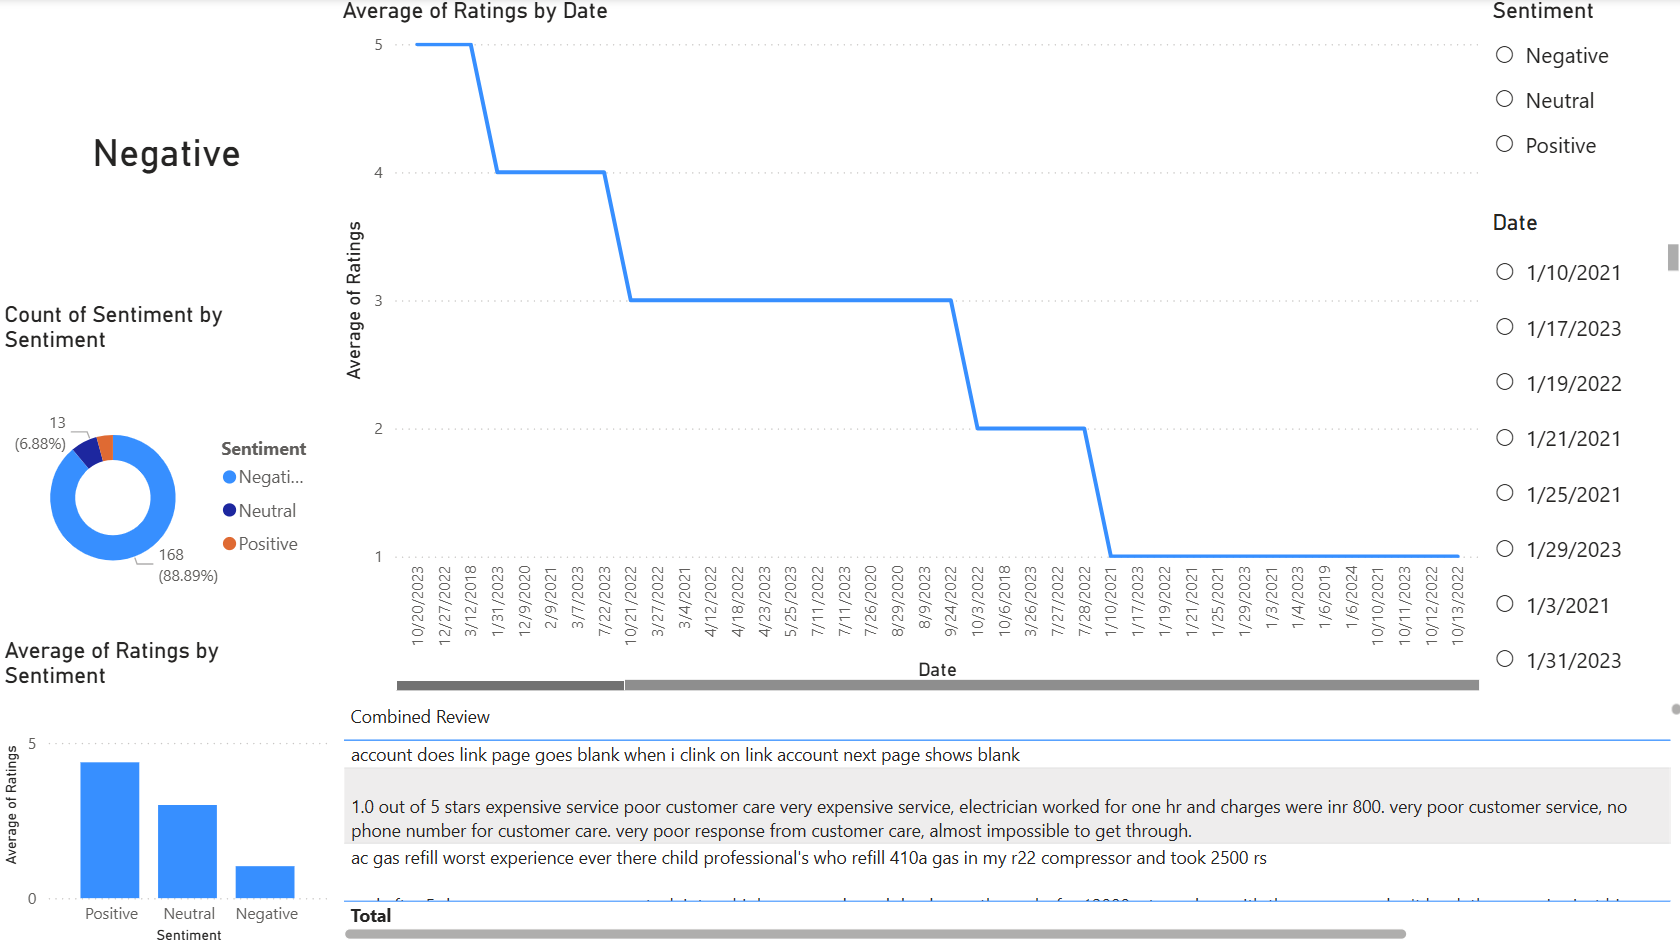

What the dashboard file says about the page in this screenshot:
{"tool":"powerbi","page":{"name":"Page 1","canvas":[1280,720],"ordinal":0},"visuals":[{"type":"card","fields":{"Values":["Min(Urban_company_reviews.Sentiment)"]},"box":[0,0,256.3,231],"z":0},{"type":"donutChart","fields":{"Category":["Urban_company_reviews.Sentiment"],"Y":["CountNonNull(Urban_company_reviews.Sentiment)"]},"box":[0,231,256.3,254.7],"z":1000},{"type":"lineChart","fields":{"Category":["Urban_company_reviews.Date"],"Y":["Avg(Urban_company_reviews.Ratings)"]},"box":[256.3,0,871.8,530],"z":2000},{"type":"tableEx","fields":{"Values":["Urban_company_reviews.Combined Review","Sum(Urban_company_reviews.Ratings)","Urban_company_reviews.Sentiment","Urban_company_reviews.Date"]},"box":[255.8,529.9,1026.2,190.1],"z":3000},{"type":"listSlicer","fields":{"Values":["Urban_company_reviews.Sentiment"]},"box":[1128.1,0,153.5,303.8],"z":4000},{"type":"listSlicer","fields":{"Values":["Urban_company_reviews.Date"]},"box":[1128.1,161.4,151.9,368.7],"z":5000},{"type":"clusteredColumnChart","fields":{"Category":["Urban_company_reviews.Sentiment"],"Y":["Avg(Urban_company_reviews.Ratings)"]},"box":[0,485.1,255.8,236.3],"z":6000}]}

Visuals, with their boxes in screenshot pixels (x1, y1, x2, y2), scaled from the page's 1280x720 canvas onto the 1680x947 screenshot:
card - Min(Urban_company_reviews.Sentiment): l=0, t=0, r=336, b=304
donutChart - Urban_company_reviews.Sentiment x CountNonNull(Urban_company_reviews.Sentiment): l=0, t=304, r=336, b=639
lineChart - Urban_company_reviews.Date x Avg(Urban_company_reviews.Ratings): l=336, t=0, r=1481, b=697
tableEx - Urban_company_reviews.Combined Review x Sum(Urban_company_reviews.Ratings): l=336, t=697, r=1679, b=946
listSlicer - Urban_company_reviews.Sentiment: l=1481, t=0, r=1679, b=400
listSlicer - Urban_company_reviews.Date: l=1481, t=212, r=1679, b=697
clusteredColumnChart - Urban_company_reviews.Sentiment x Avg(Urban_company_reviews.Ratings): l=0, t=638, r=336, b=946
